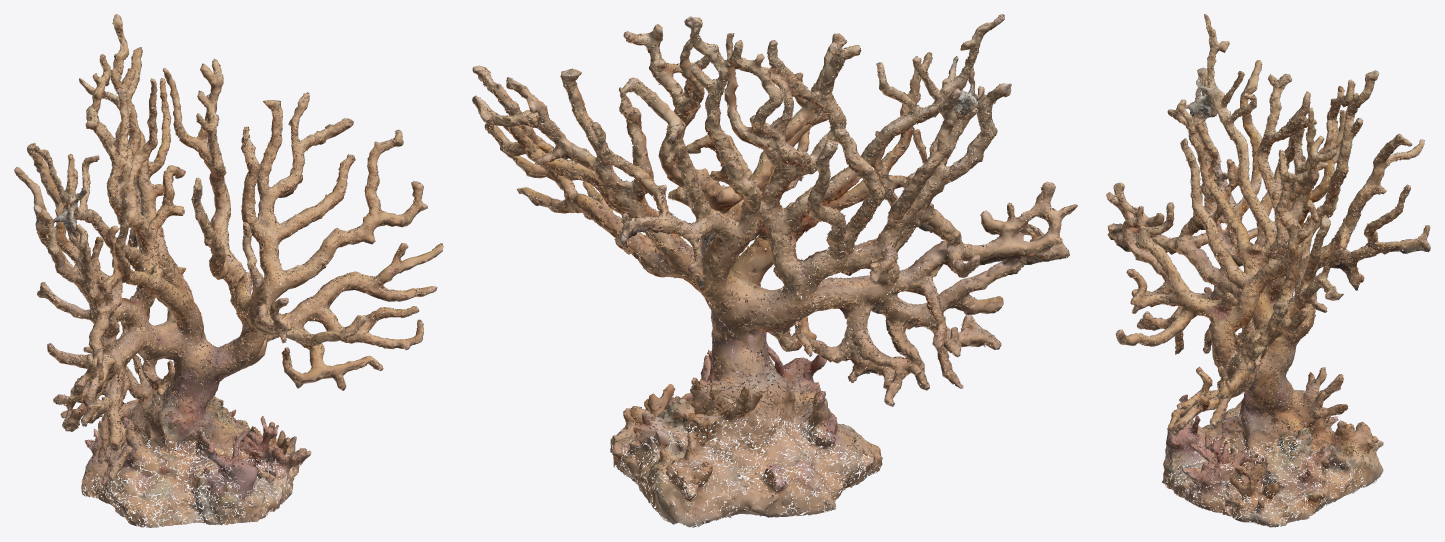
Rendered from corallium-rubrum-photogrammetry.glb.
3 views of the same model, side by side, from view 1: azimuth 30°, elevation 25°; view 2: azimuth 150°, elevation 25°; view 3: azimuth 270°, elevation 25° (orthographic). The views are drawn at different scales.
Parts seen in each view (by area): view 1: Geode; view 2: Geode; view 3: Geode.
Part boxes in pixels (x1,y1,x2,y2): Geode: (14, 14, 443, 527); Geode: (472, 14, 1077, 527); Geode: (1106, 14, 1430, 527).
Bounding box in the file's own units: 34.84 × 33.76 × 24.67.
